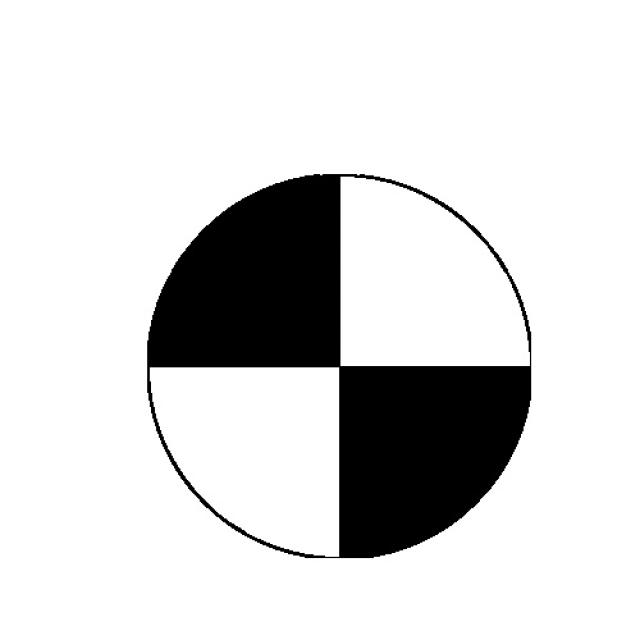Marcadores: (149, 172, 532, 559)
